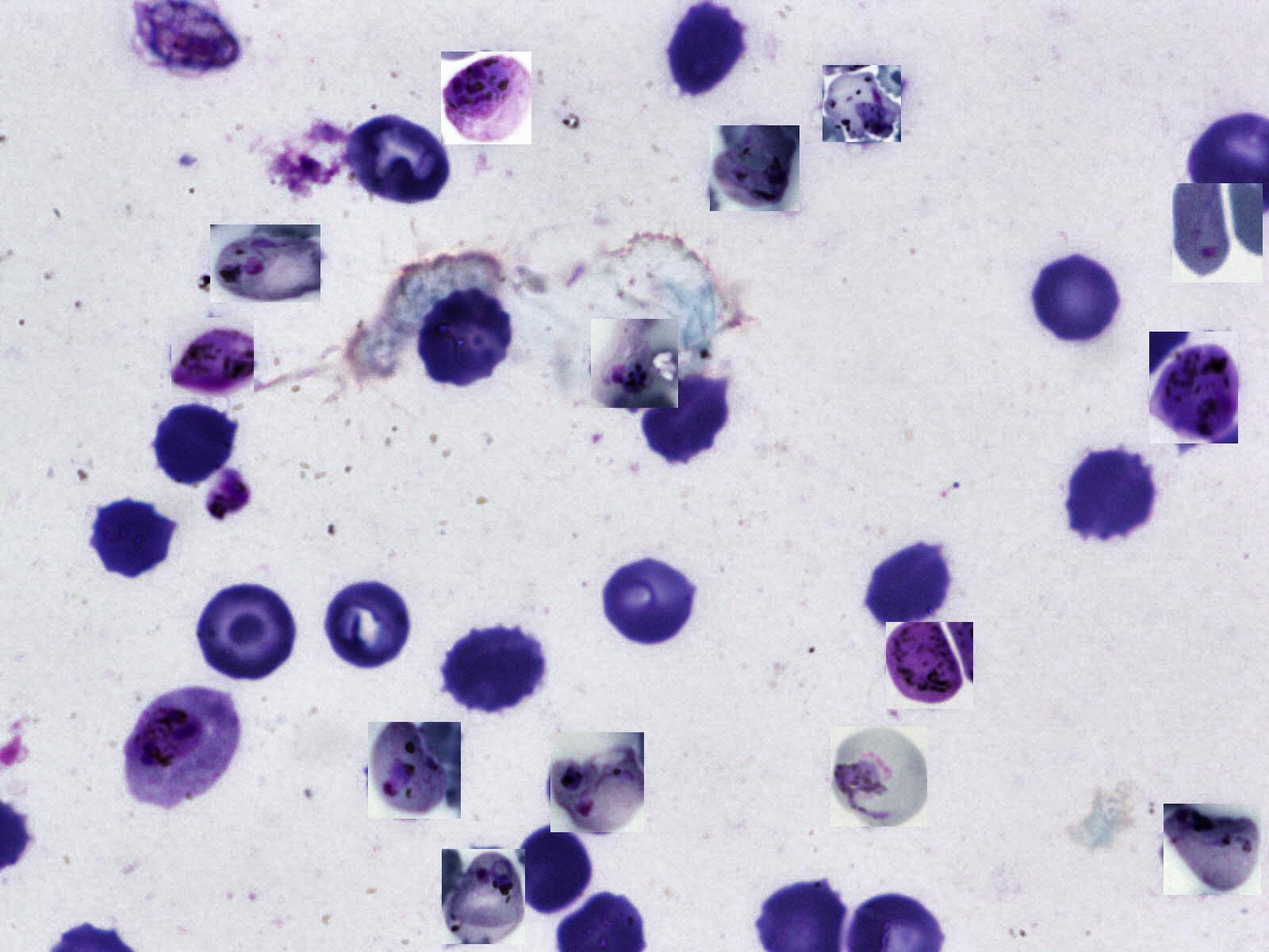Infected: (123, 685, 242, 808), (1149, 332, 1238, 443), (830, 727, 927, 827), (550, 732, 644, 832), (368, 722, 461, 819), (1172, 183, 1263, 282), (1164, 804, 1261, 895), (210, 225, 320, 302), (441, 52, 531, 144), (442, 849, 525, 944), (591, 319, 678, 408), (710, 125, 799, 211), (886, 622, 973, 708), (171, 317, 254, 397), (822, 65, 901, 142)
Uninfected: (194, 582, 299, 682), (343, 116, 458, 207), (418, 285, 518, 388), (320, 574, 413, 673), (603, 554, 699, 647), (443, 627, 542, 712), (1032, 251, 1122, 343), (641, 372, 731, 463), (867, 543, 957, 628), (667, 6, 750, 97), (1069, 446, 1151, 532), (513, 824, 593, 912), (155, 401, 239, 483), (92, 499, 177, 578)
